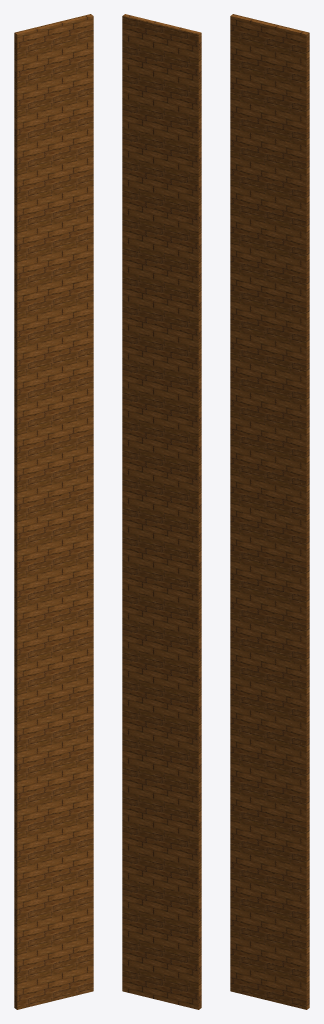
Rendered from road.fbx.
The picture shows the model from 3 angles, left to right: view 1: azimuth 30°, elevation 25°; view 2: azimuth 150°, elevation 25°; view 3: azimuth 330°, elevation 25°; orthographic projection.
Visible parts, largest first — view 1: Cube; view 2: Cube; view 3: Cube.
Part boxes in pixels (x1=…): Cube: x1=14, y1=14, x2=93, y2=1009; Cube: x1=122, y1=14, x2=201, y2=1009; Cube: x1=230, y1=14, x2=309, y2=1009.
Bounding box in the file's own units: 819 × 10000 × 50.
